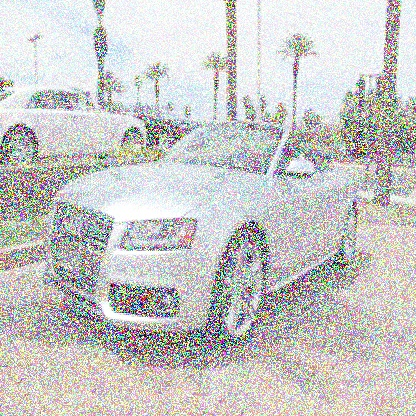Vehicle: (39, 124, 365, 344)
